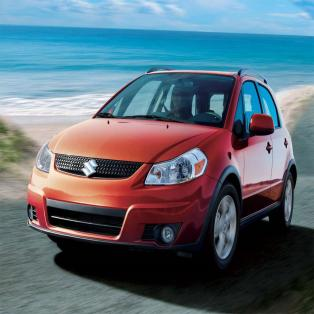Auto: (26, 65, 298, 273)
